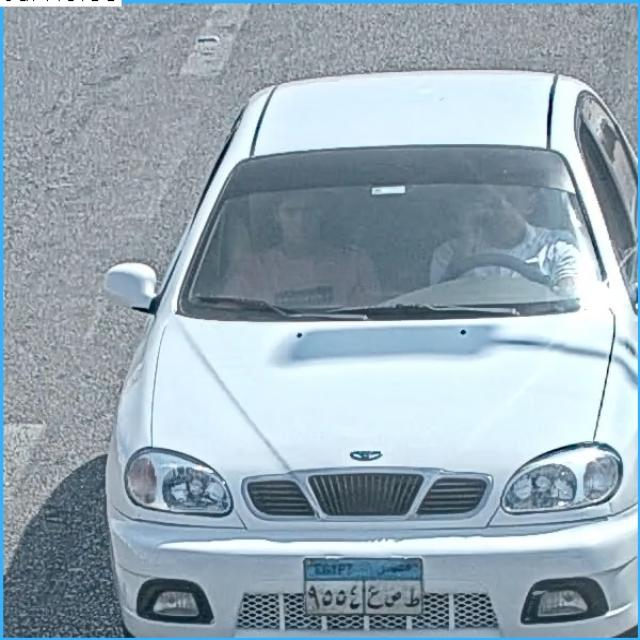windshield: (174, 170, 623, 300)
